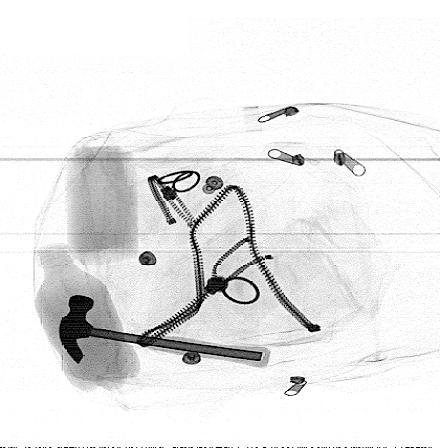Hammer: (58, 294, 272, 368)
